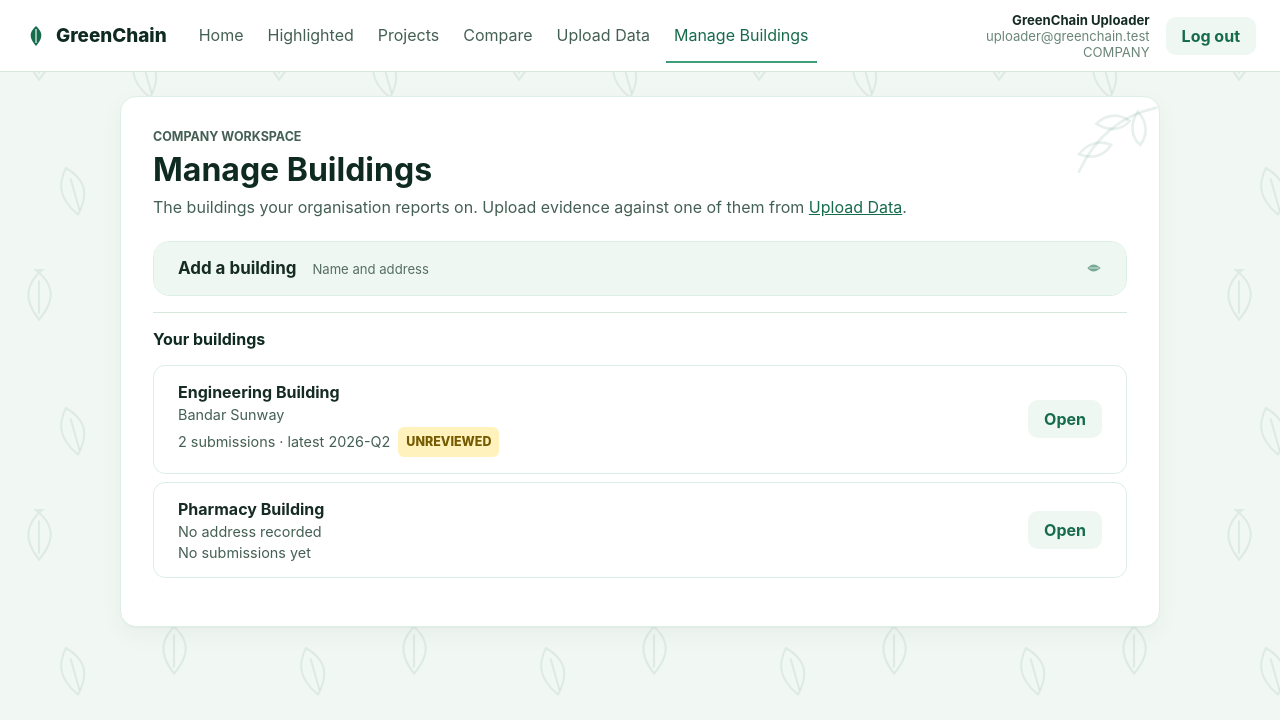
it: assigning auditors to a submission › an auditor is chosen from a list and added, and is then not offered again
Expected: the heading "Engineering Building" is shown, top-left (178, 382), bottom-right (340, 402)
Click the button "Open" in the row of "Bandar Sunway".
click(1065, 419)  # box top-left (1028, 400), bottom-right (1102, 438)
(page scrolled)
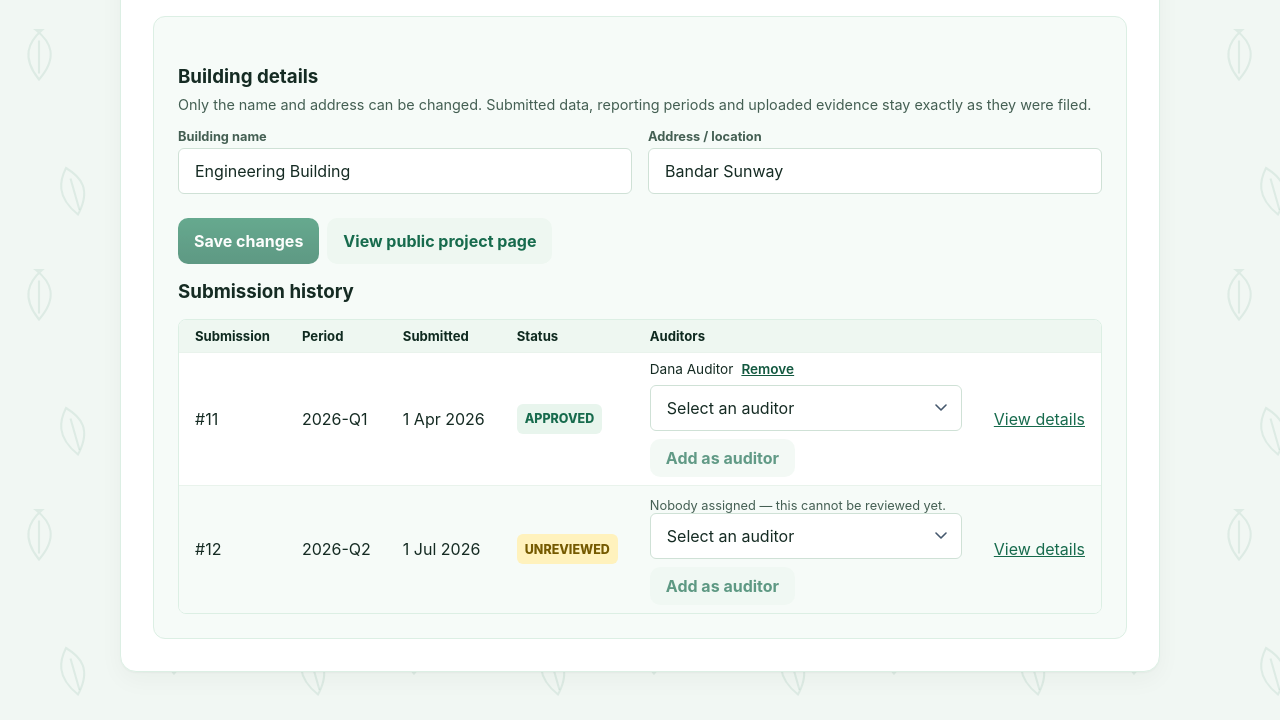
Select "Dana Auditor (dana@greenchain.test)" in the dropdown named "Add an auditor to submission 12" in the row of "12" at [806, 536], box top-left (650, 513), bottom-right (962, 559)
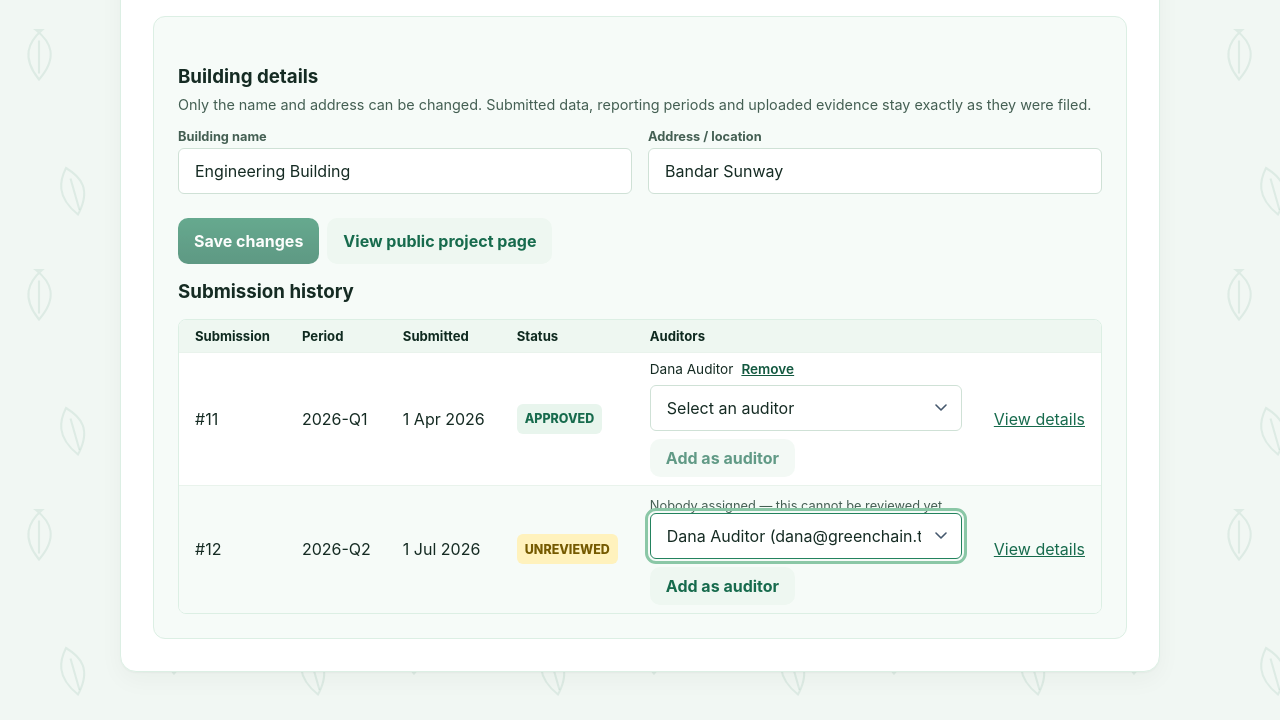
Click the button "Add as auditor" below "1 Jul 2026".
click(722, 586)  # box top-left (650, 567), bottom-right (795, 605)
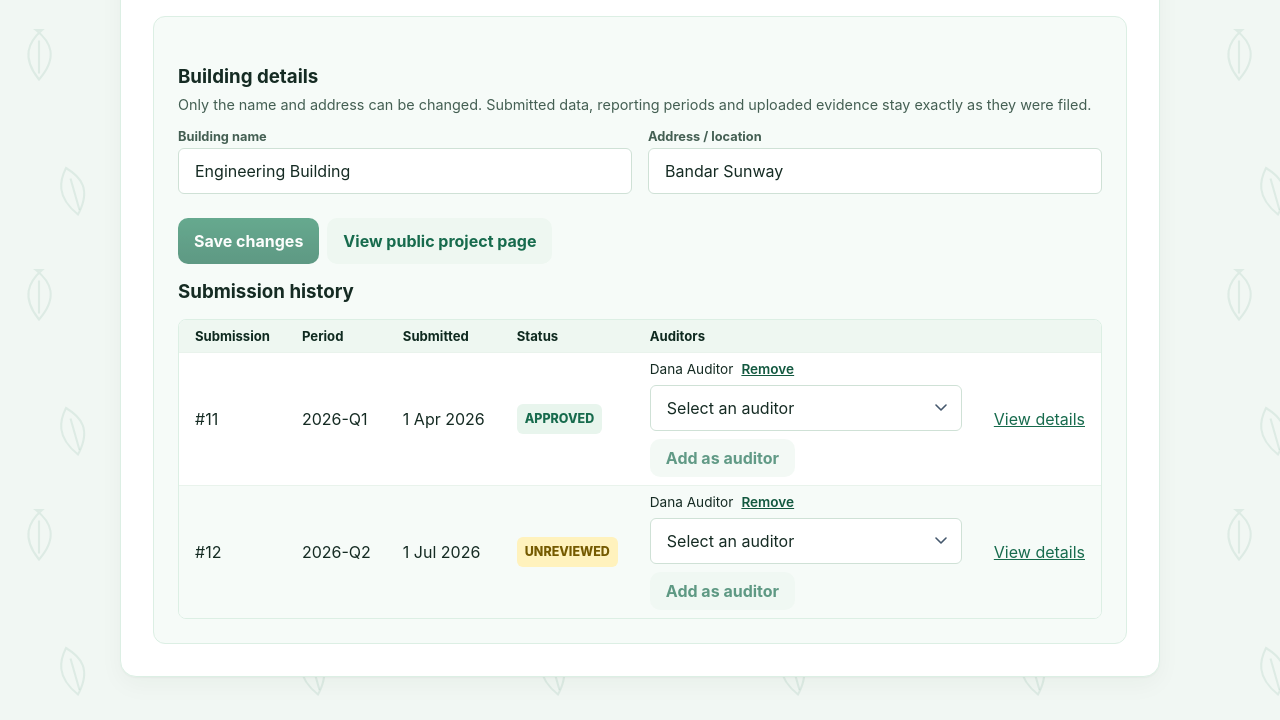
Expected: the 2nd text "Dana Auditor" is shown, top-left (650, 494), bottom-right (733, 510)
